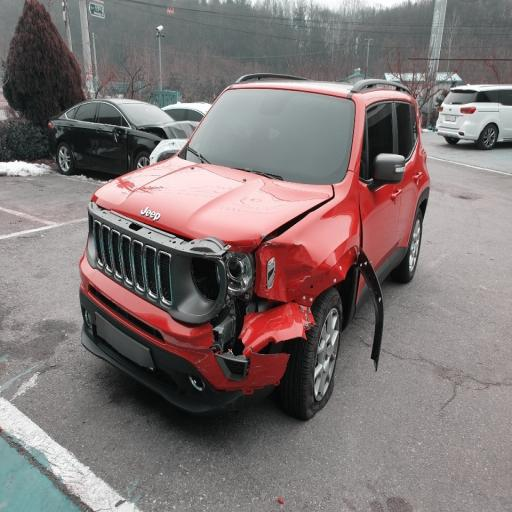broken: (178, 205, 389, 389)
